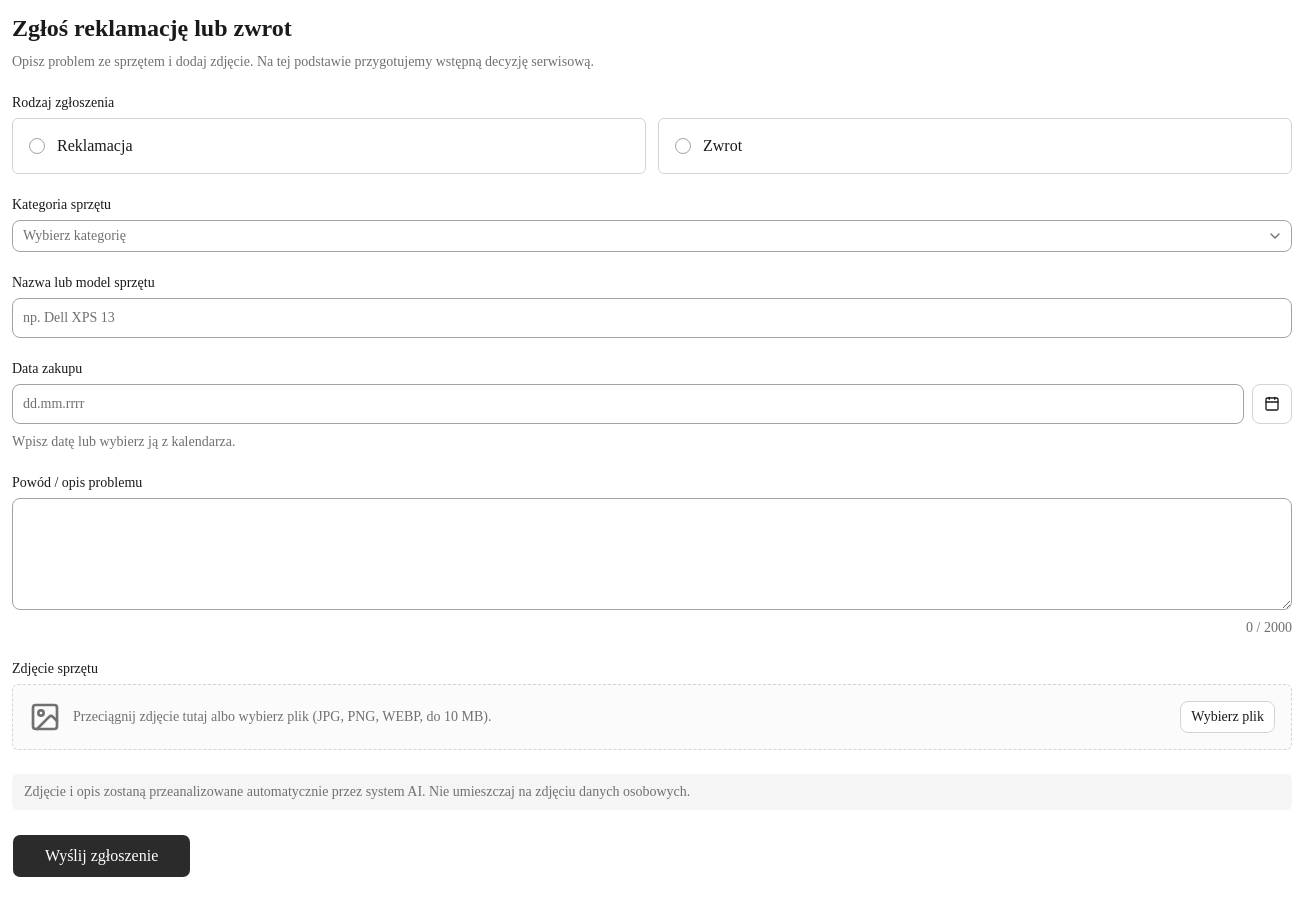
Test case: CaseForm fields (AC-01..AC-03, AC-40, AC-42) › shows the live character counter
Type "abcde" into the text box labelled "Powód / opis problemu" at [652, 554], box [12, 498, 1292, 610]
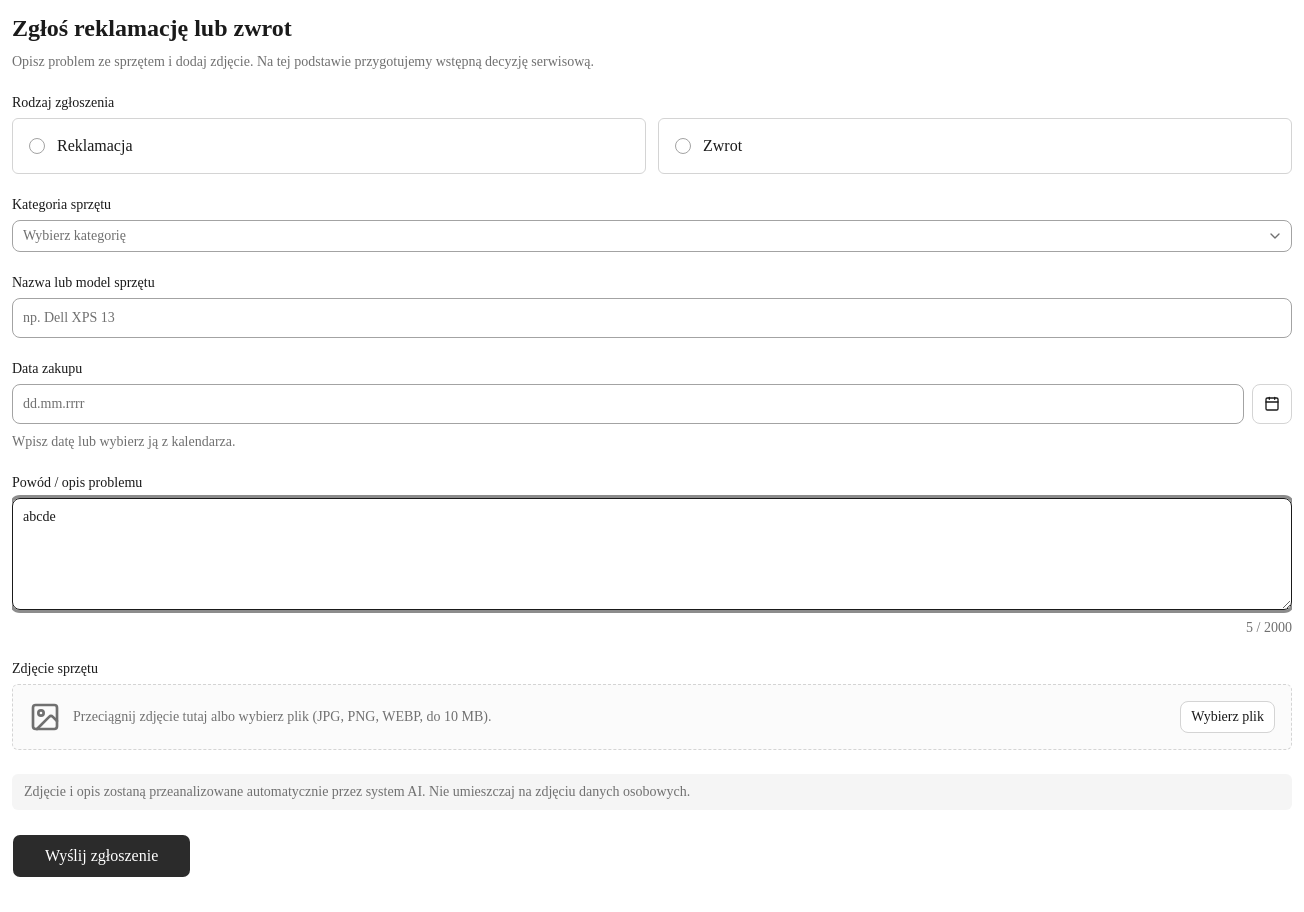
Expected: the text "5 / 2000" is shown, [1246, 618, 1292, 638]
